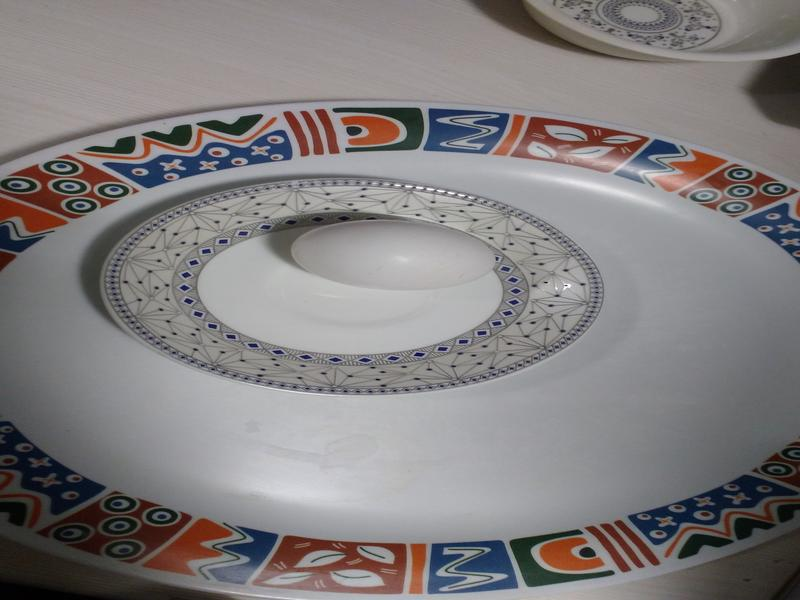egg: (297, 220, 497, 294)
